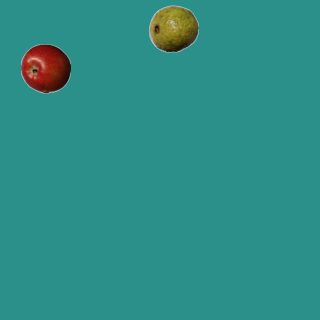Apple Braeburn: (20, 43, 70, 93)
Guava: (148, 3, 198, 53)
